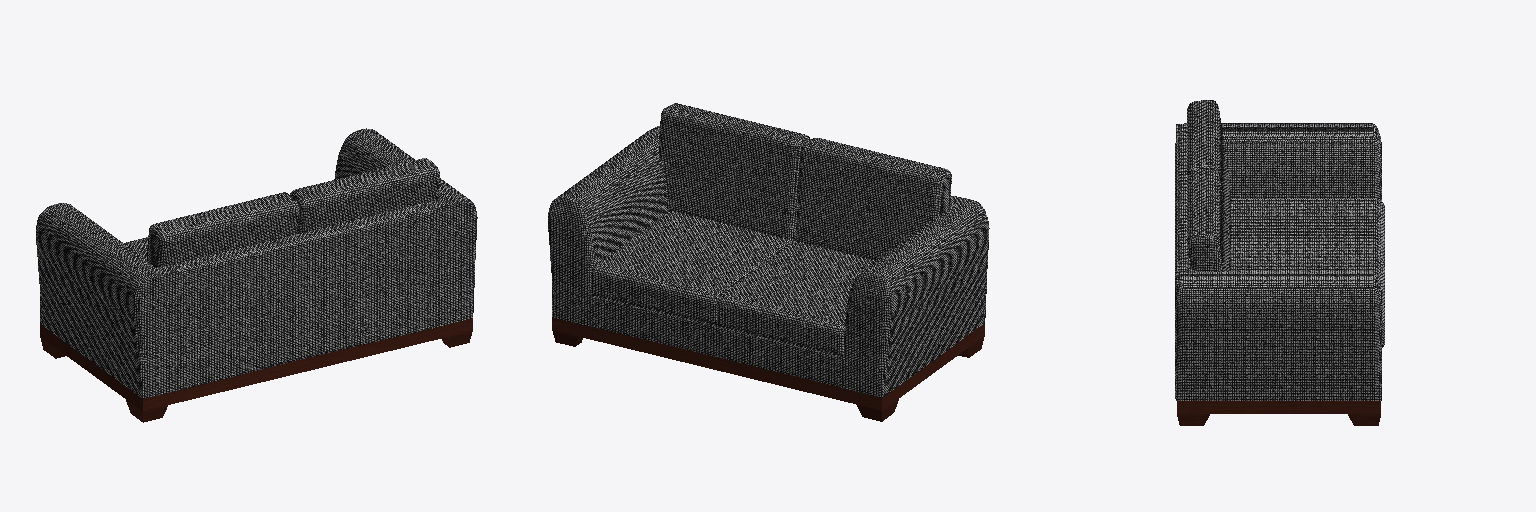
The picture shows the model from 3 angles: view 1: azimuth 30°, elevation 25°; view 2: azimuth 150°, elevation 25°; view 3: azimuth 270°, elevation 25°; orthographic projection.
Parts seen in each view (by area): view 1: main, base; view 2: main, base; view 3: main, base.
Part boxes in pixels (left/top/right/bottom): main: left=36, top=128, right=477, bottom=398; base: left=40, top=318, right=472, bottom=422; main: left=548, top=103, right=989, bottom=397; base: left=552, top=318, right=984, bottom=421; main: left=1175, top=100, right=1384, bottom=400; base: left=1177, top=401, right=1380, bottom=425.
Size of the model in its own units: 180 by 90 by 95.01.
2 materials, 2 textured.